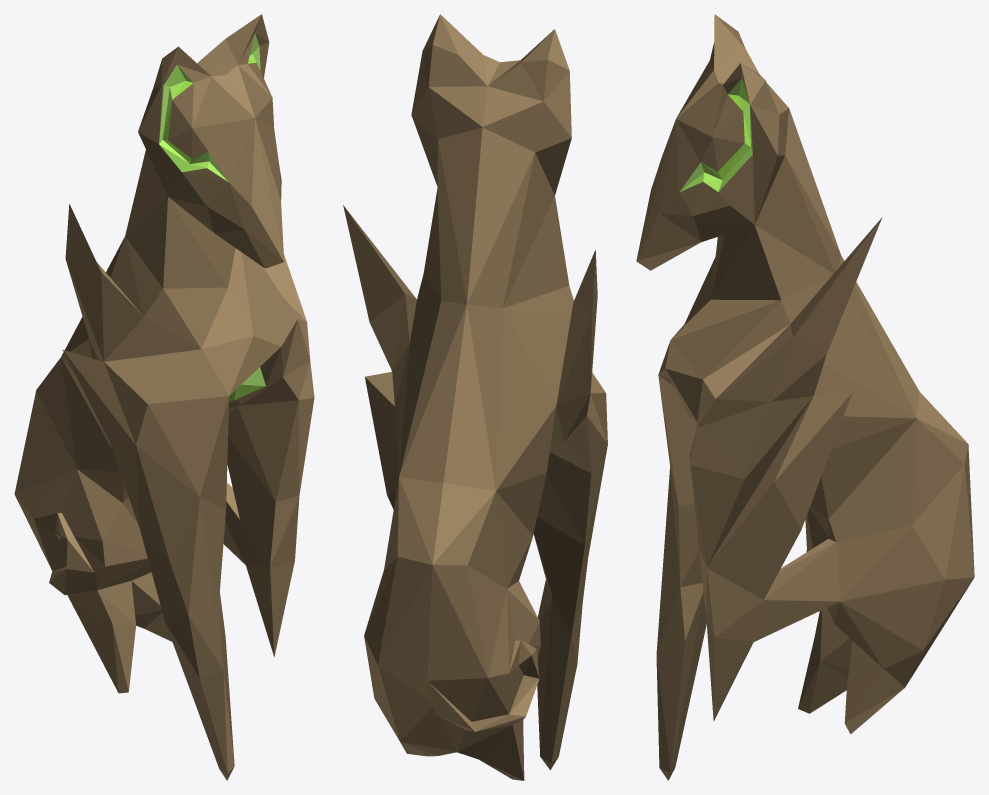
File: wolf.gltf
3 renders of one model, left to right at view 1: azimuth 30°, elevation 25°; view 2: azimuth 150°, elevation 25°; view 3: azimuth 270°, elevation 25°, orthographic. The views are drawn at different scales.
Parts seen in each view (by area): view 1: wolf.001; view 2: wolf.001; view 3: wolf.001.
Boxes of the visible parts, x1,y1,x2,y2 form: wolf.001: (14, 14, 314, 780); wolf.001: (343, 14, 607, 780); wolf.001: (636, 14, 974, 780).
Bounding box in the file's own units: 0.0798 × 0.2636 × 0.1073.
1 material, 1 textured.
